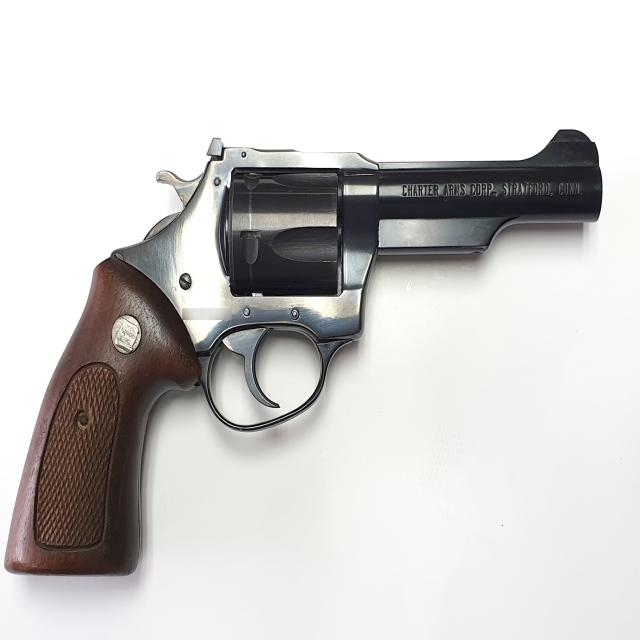Gun: (17, 128, 597, 570)
